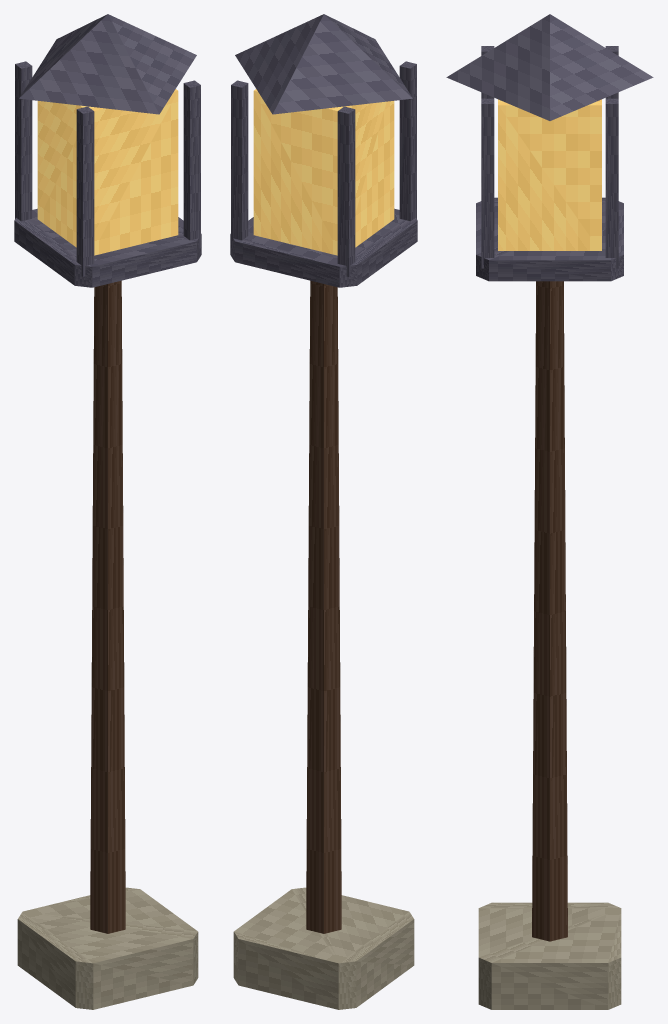
Rendered from Lampadaire.glb.
3 renders of one model, left to right at view 1: azimuth 30°, elevation 25°; view 2: azimuth 150°, elevation 25°; view 3: azimuth 270°, elevation 25°, orthographic.
Visible parts, largest first — view 1: Structure; view 2: Structure; view 3: Structure.
Part boxes in pixels (<box>): Structure: <box>14,14,201,1009</box>; Structure: <box>230,14,417,1009</box>; Structure: <box>446,14,653,1009</box>.
Bounding box in the file's own units: 0.8 × 4.11 × 0.8.
2 materials, 2 textured.
